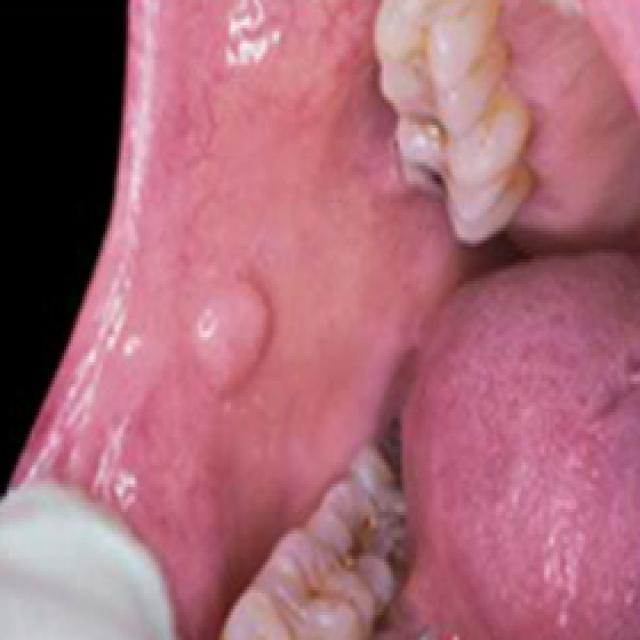Cancer: (193, 250, 289, 417)
